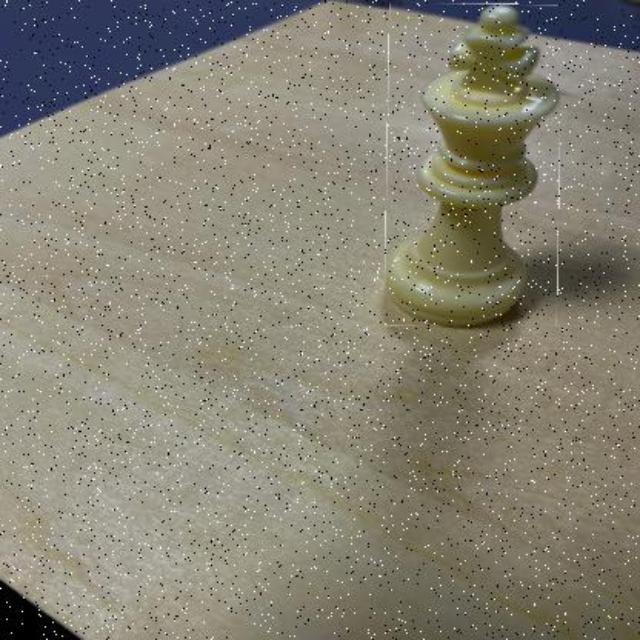white-king: (387, 4, 560, 328)
